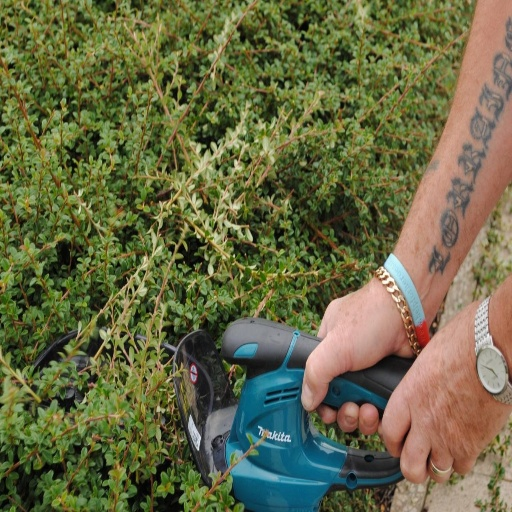hand: (384, 299, 505, 505), (297, 273, 424, 436)
